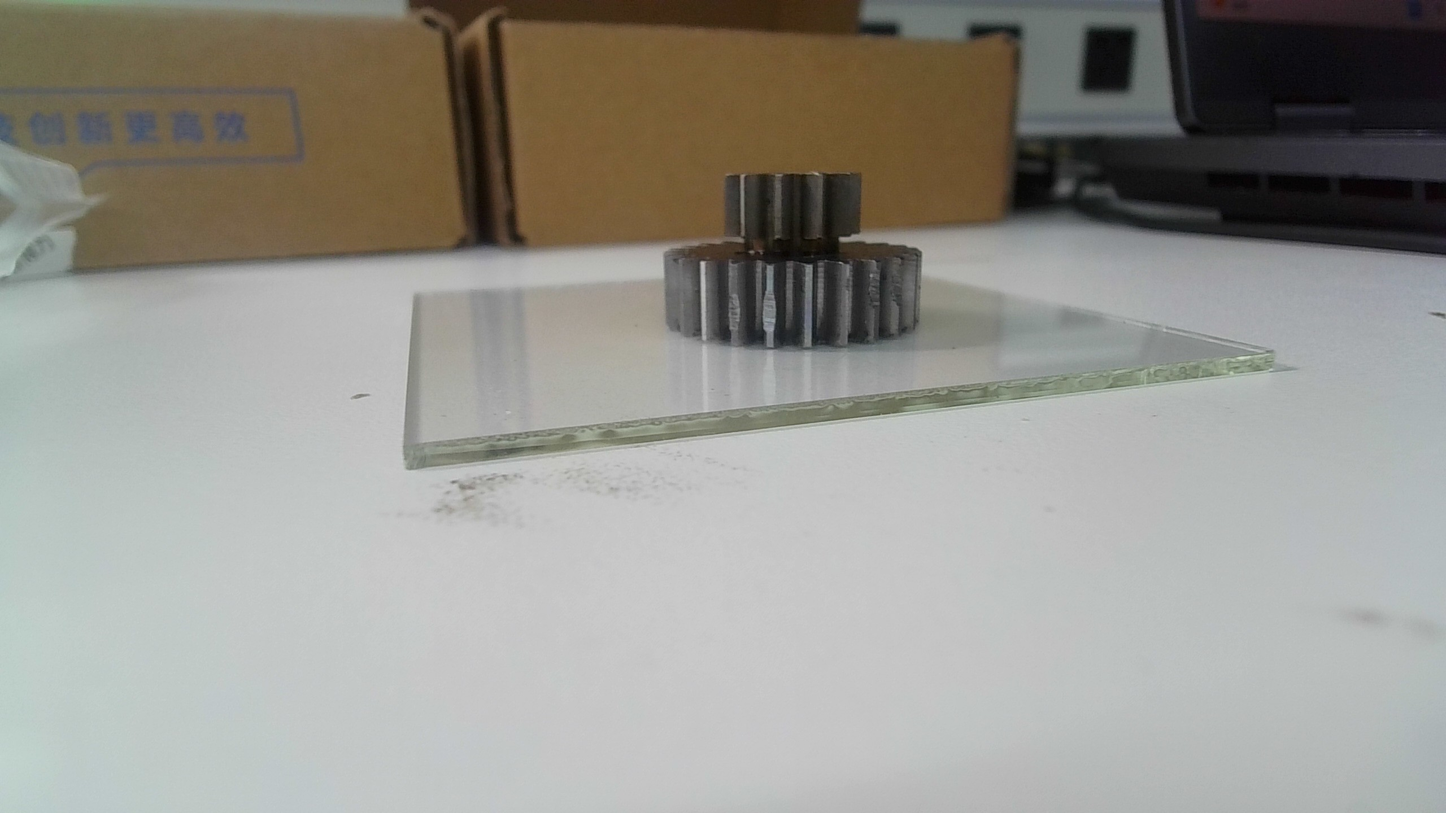gear: (662, 170, 929, 352)
